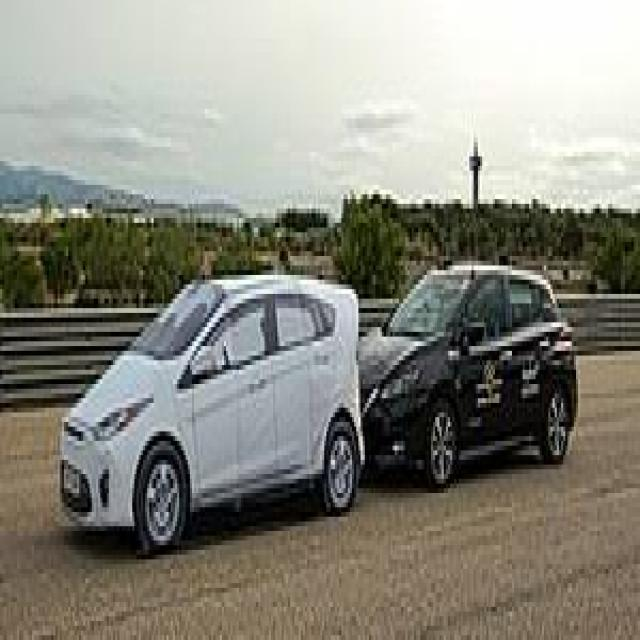car-minor-accident: (48, 222, 622, 564)
